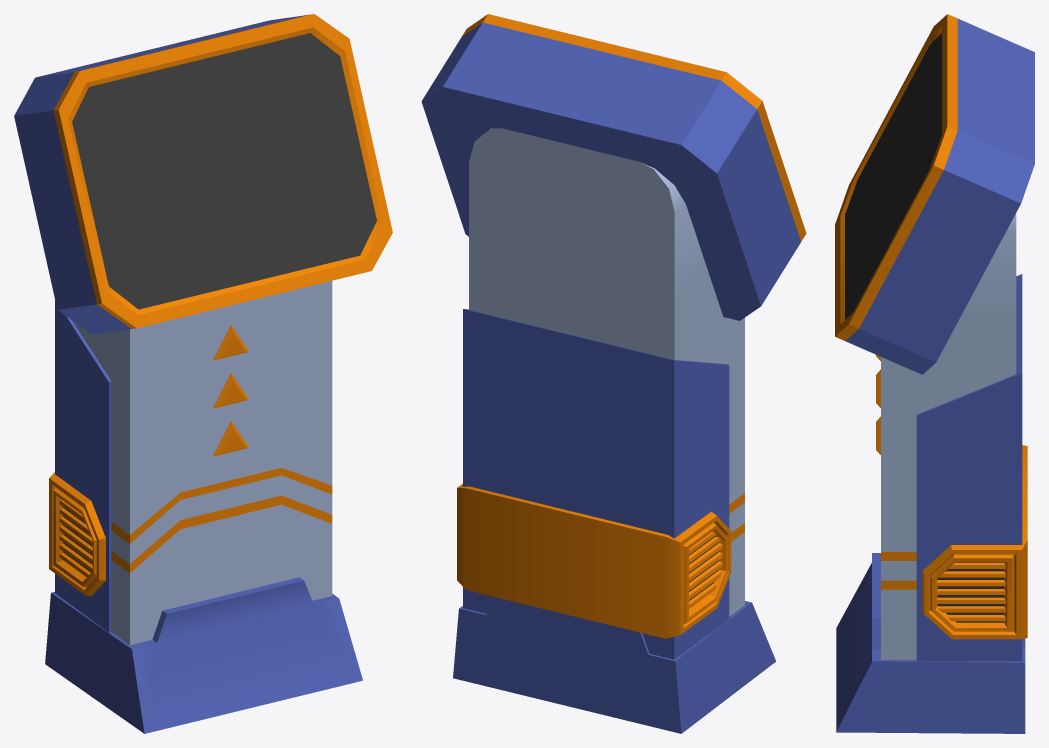
File: totem-small-palette.glb
The picture shows the model from 3 angles, left to right: view 1: azimuth 30°, elevation 25°; view 2: azimuth 150°, elevation 25°; view 3: azimuth 270°, elevation 25°; orthographic projection. The views are drawn at different scales.
Parts seen in each view (by area): view 1: Props_ComputerSmall; view 2: Props_ComputerSmall; view 3: Props_ComputerSmall.
Boxes of the visible parts, left/top/right/bottom form: Props_ComputerSmall: left=14, top=14, right=392, bottom=733; Props_ComputerSmall: left=421, top=14, right=806, bottom=733; Props_ComputerSmall: left=835, top=14, right=1034, bottom=733.
Bounding box in the file's own units: 0.7512 × 1.54 × 0.4564.
